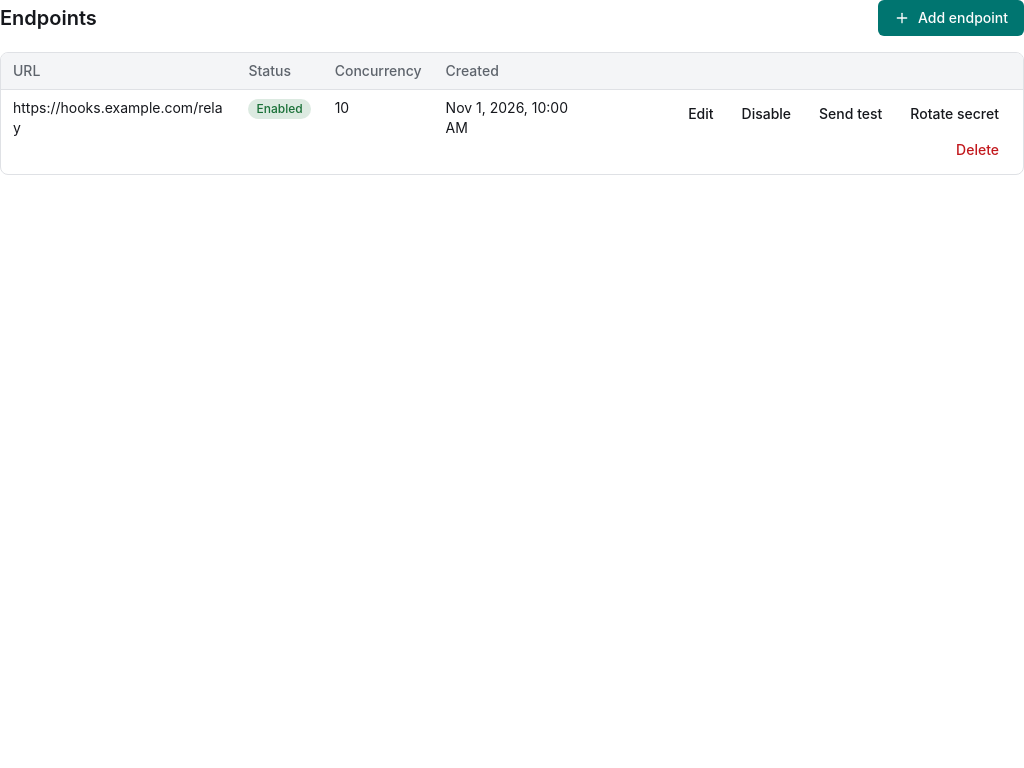
Test: endpoints: roles › still handles a 403 from the API with the problem and a role hint
The width and height of the screenshot is (1024, 768).
Expected: the link "https://hooks.example.com/relay" is shown, x1=13 y1=99 x2=223 y2=136
Click the button "Delete" at x=978, y=150, box x1=944 y1=134 x2=1011 y2=166
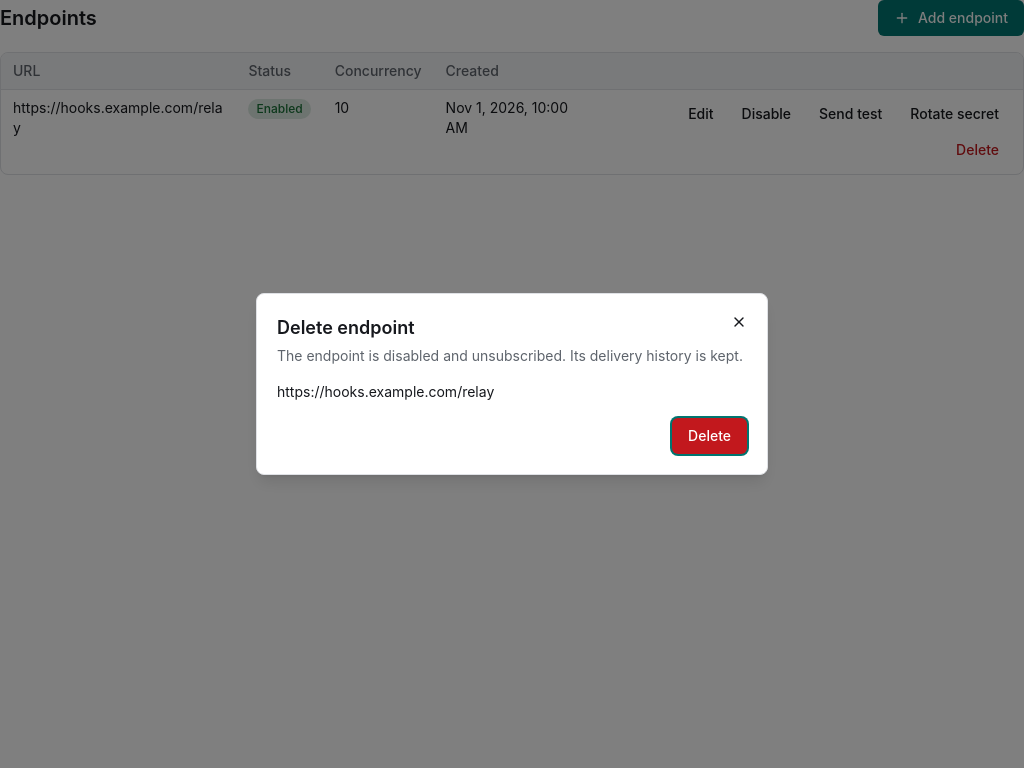
Click the button "Delete" at x=710, y=436, box x1=672 y1=418 x2=747 y2=454
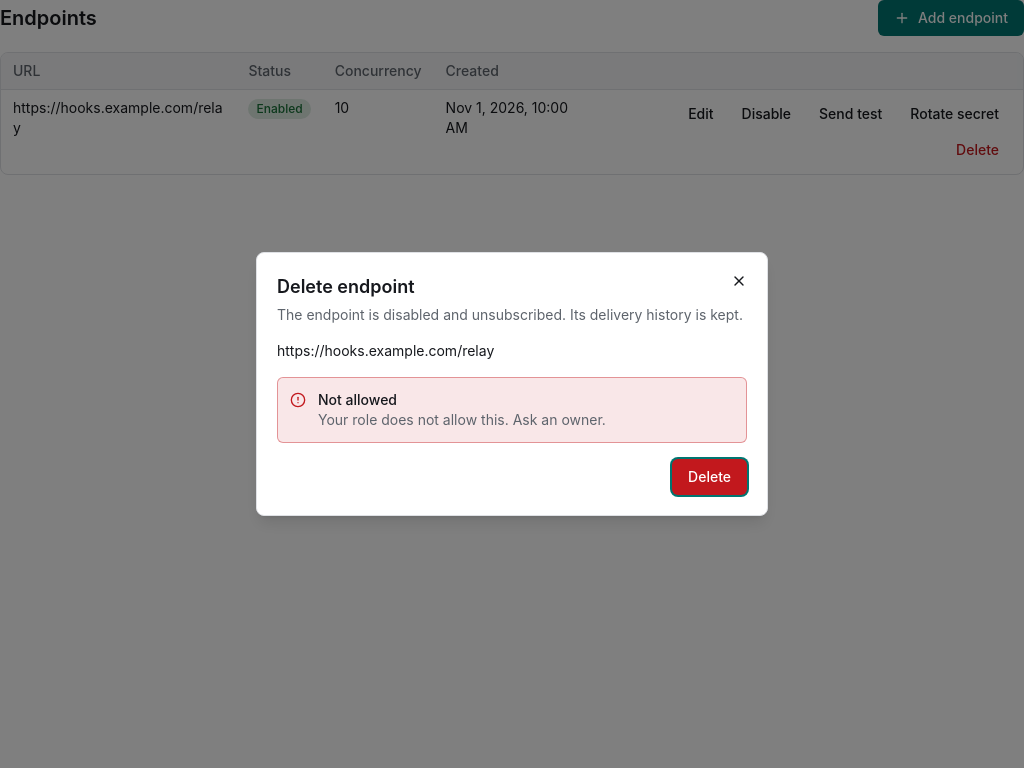
Expected: the message shows "Your role does not allow this", x1=318 y1=411 x2=606 y2=428
